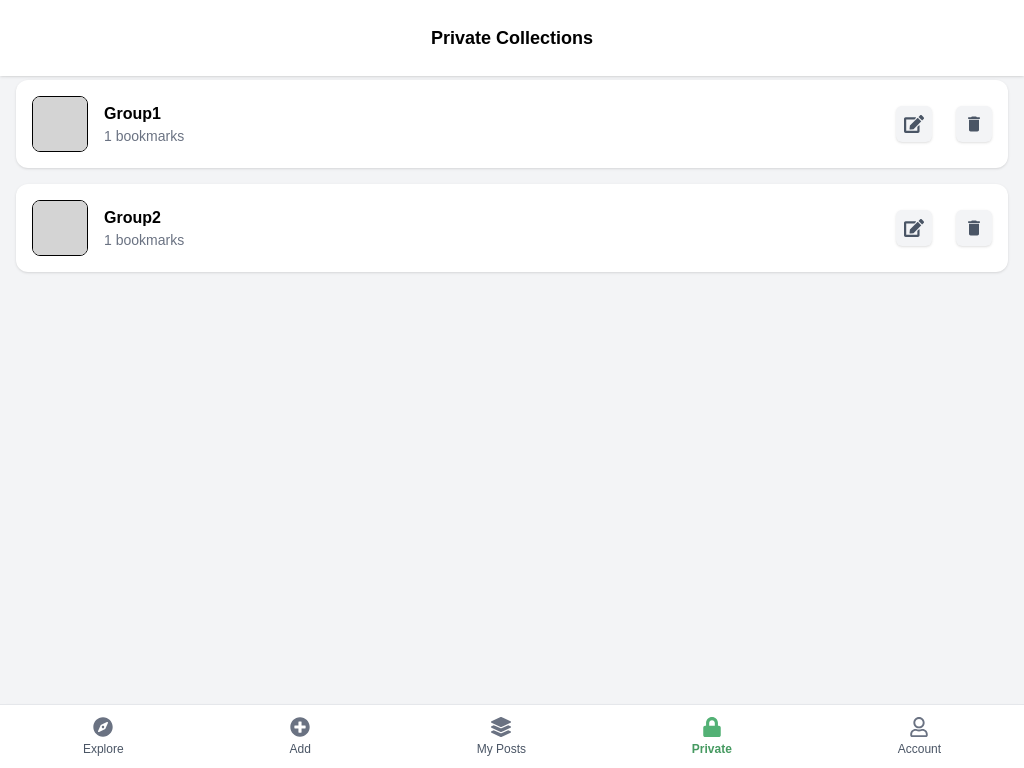
PrivateCollectionsPage › opens edit modal when edit button is clicked
The width and height of the screenshot is (1024, 768).
Click the 1st button: (914, 124) [896,106,932,142]
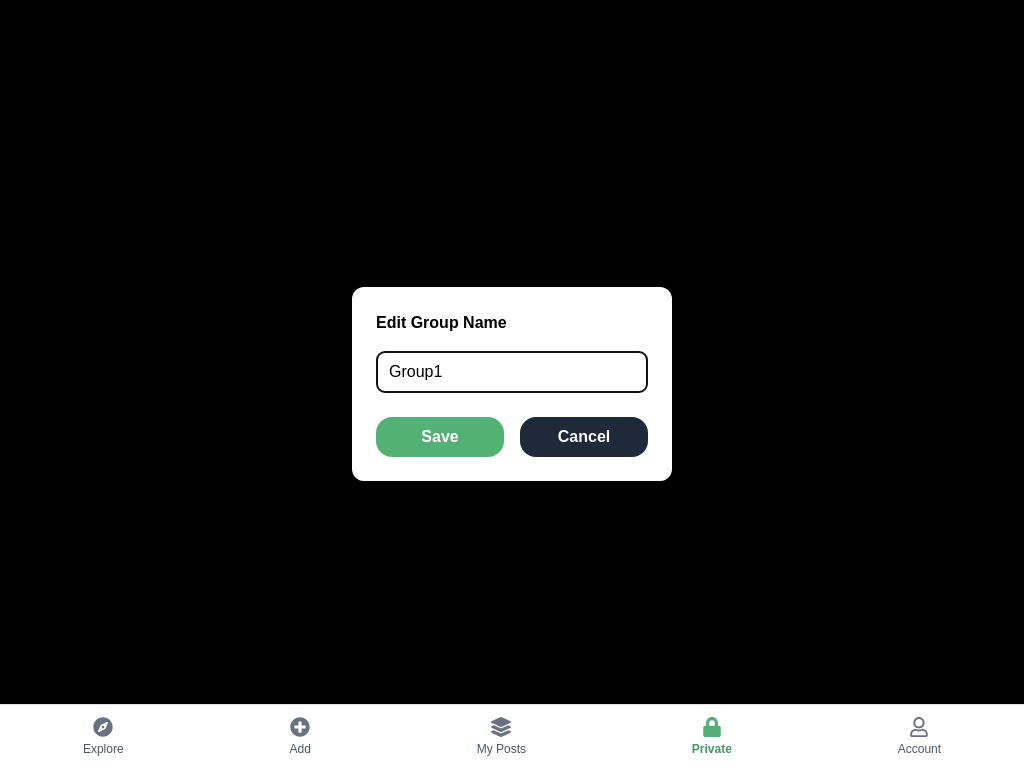
Expected: the text "Edit Group Name" is shown, [376,314,507,331]
